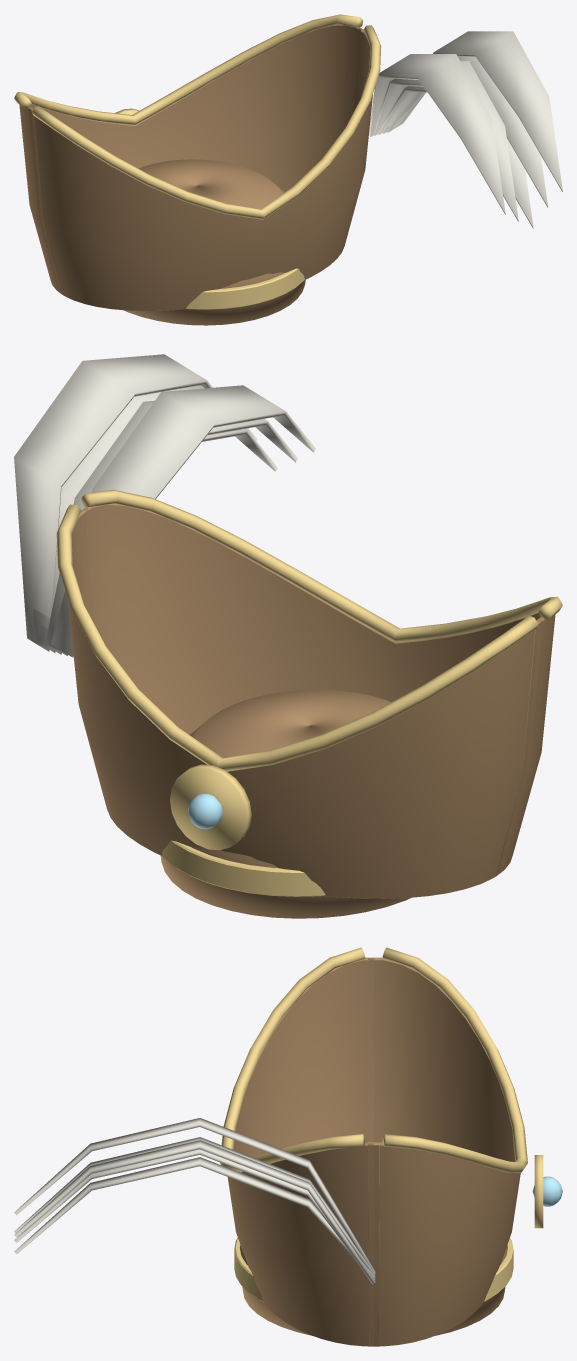
The model's file is blackwood_head.glb.
The picture shows the model from 3 angles, top to bottom: view 1: azimuth 30°, elevation 25°; view 2: azimuth 150°, elevation 25°; view 3: azimuth 270°, elevation 25°; orthographic projection. The views are drawn at different scales.
Parts seen in each view (by area): view 1: G_blackwood_head; view 2: G_blackwood_head; view 3: G_blackwood_head.
Boxes of the visible parts, bbox=[...] form: G_blackwood_head: bbox=[14, 14, 562, 325]; G_blackwood_head: bbox=[14, 354, 562, 918]; G_blackwood_head: bbox=[14, 947, 562, 1346].
Size of the model in its own units: 0.5064 by 0.2844 by 0.5052.
